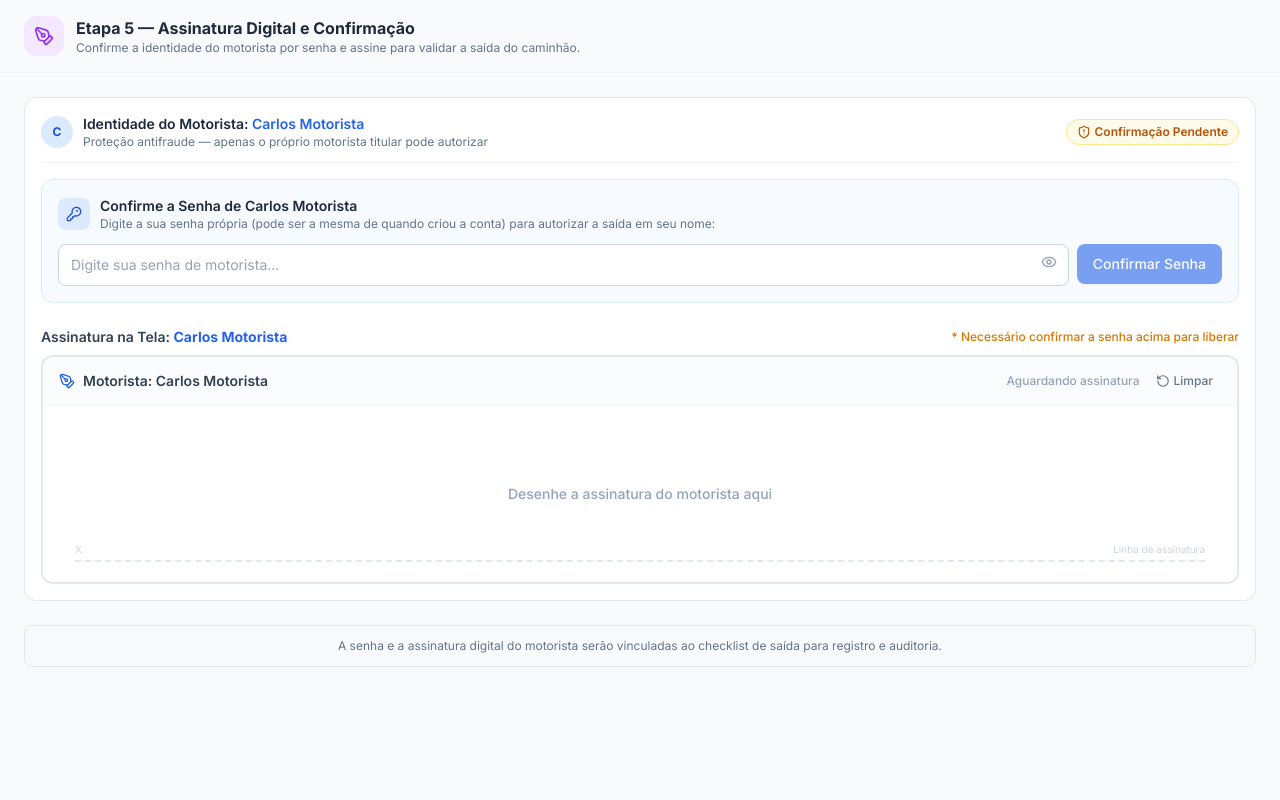
Test case: Step10_Signature › verifies existing driver password successfully
Check: the text "Confirme a Senha de Carlos Motorista" is shown, box [100,197,357,214]
Type "senhacarlos" into the password field with placeholder "Digite sua senha de motorista..." at x=563, y=265, box [58,244,1069,286]
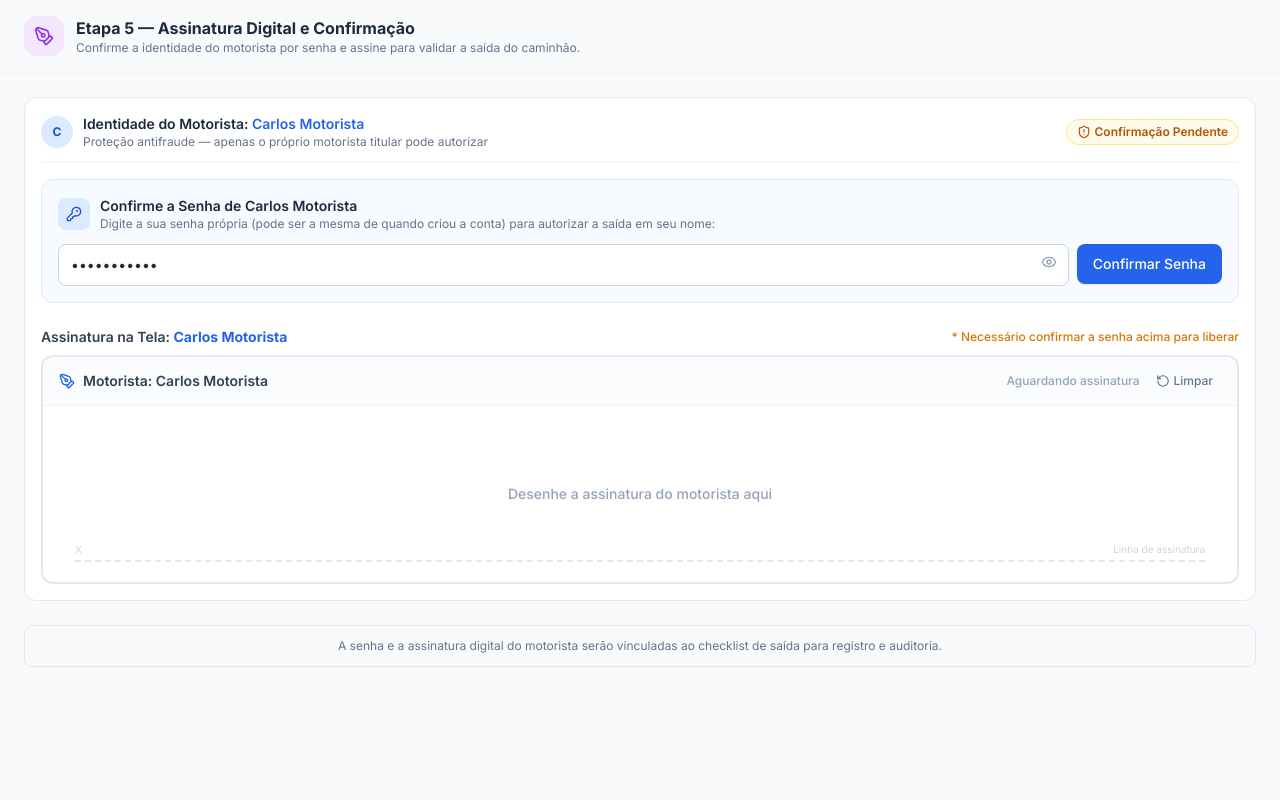
Click the button "Confirmar Senha" at x=1149, y=264, box [1077,244,1222,284]
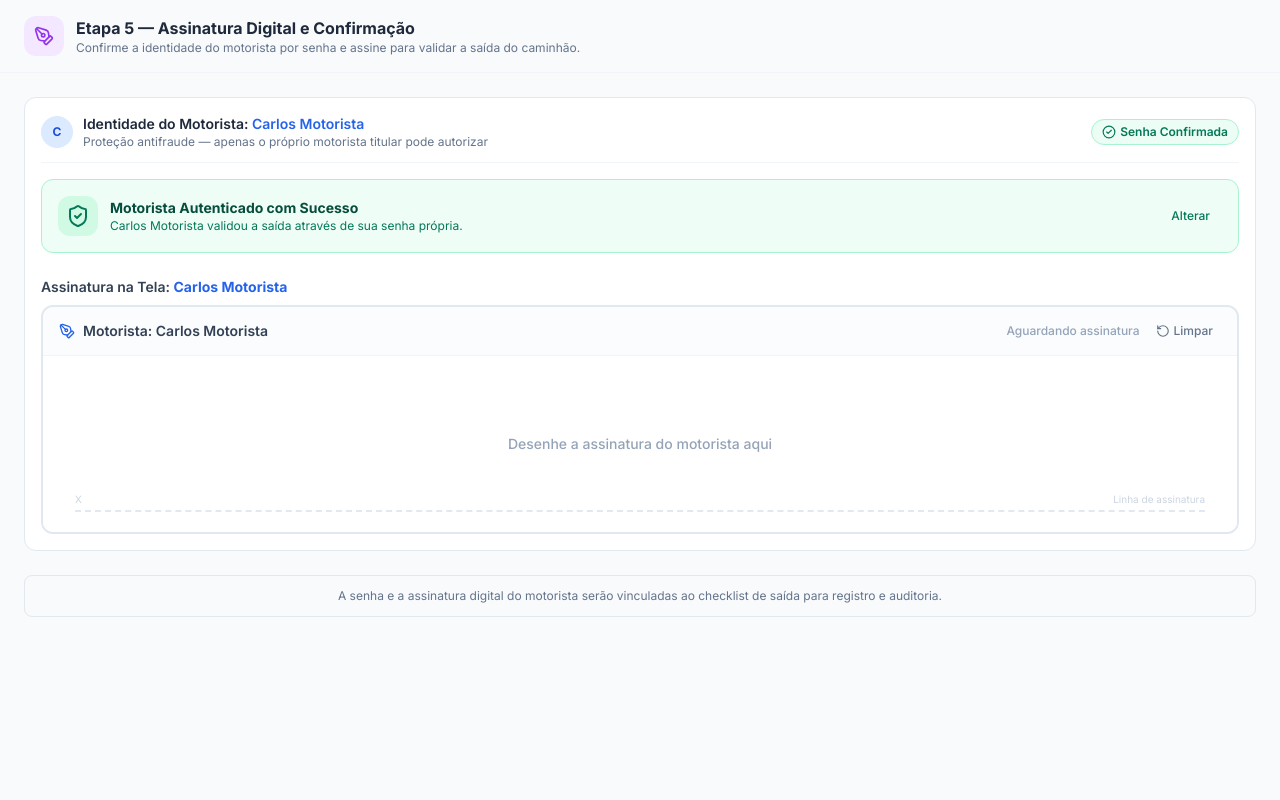
Check: the text "Motorista Autenticado com Sucesso" is shown, box [110,199,358,216]
